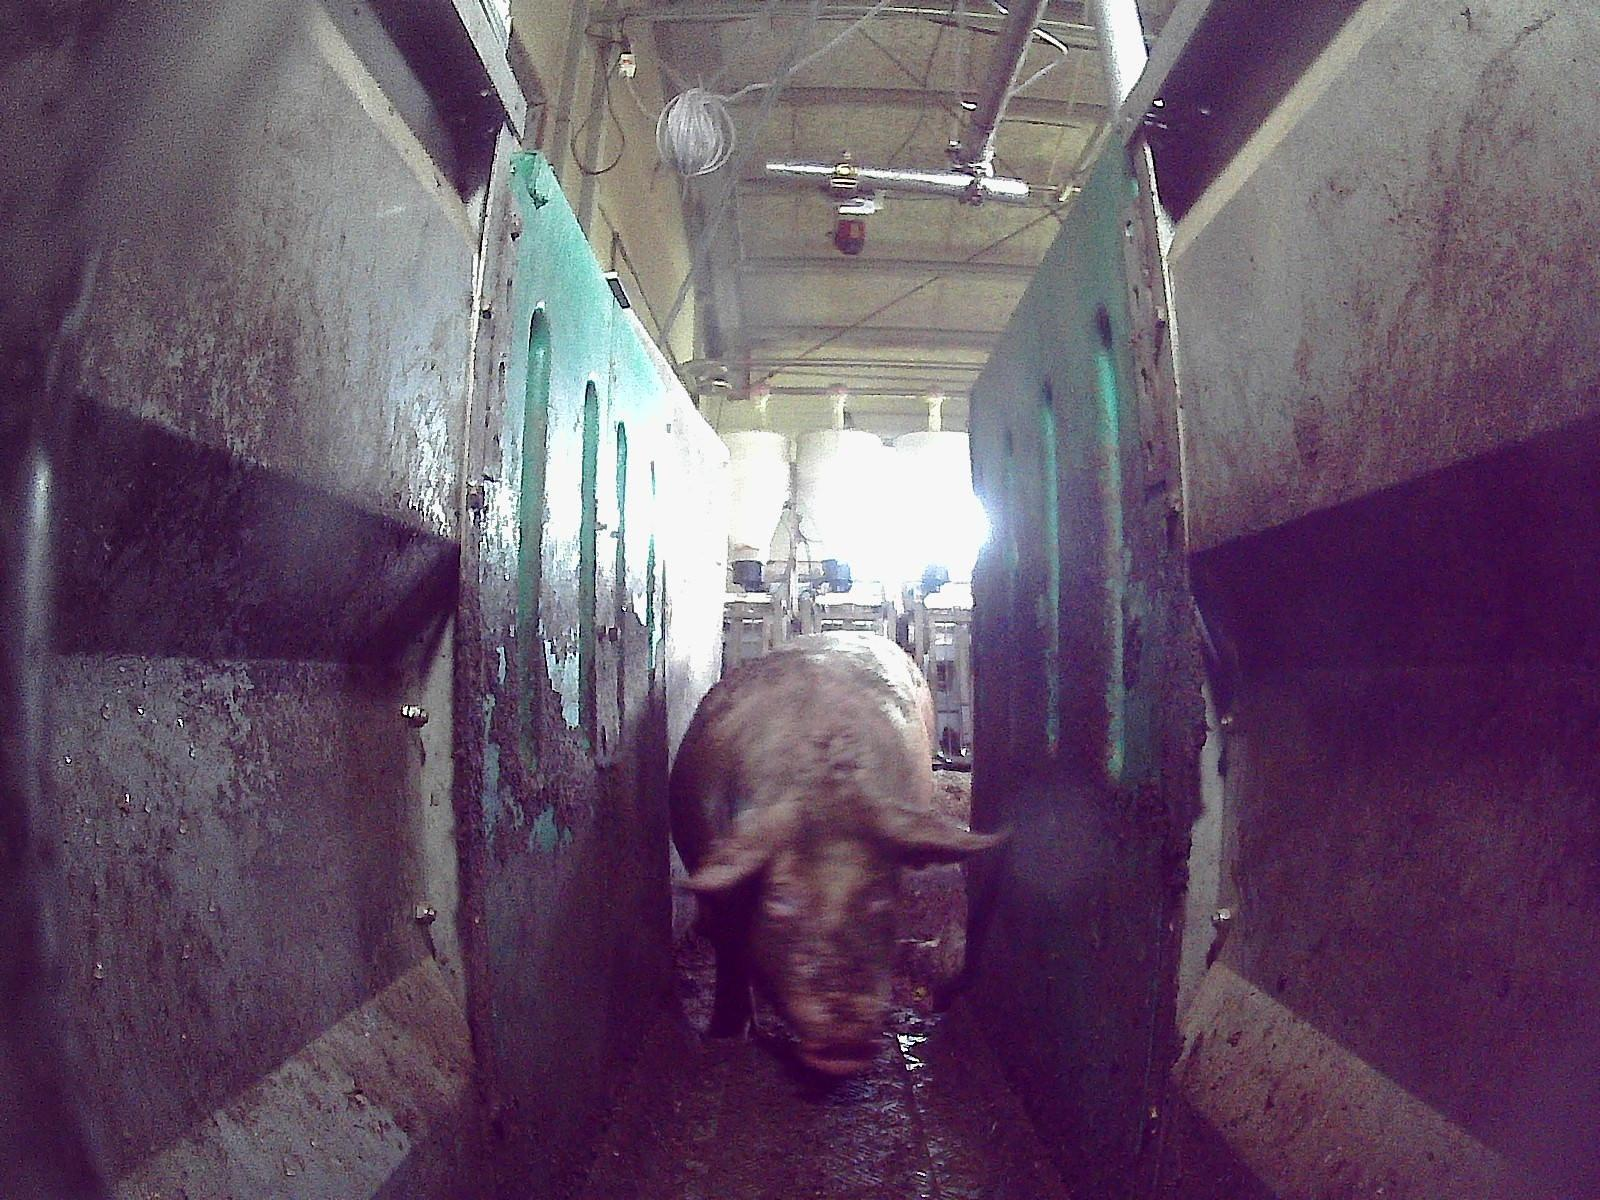Face: (728, 797, 916, 1078)
